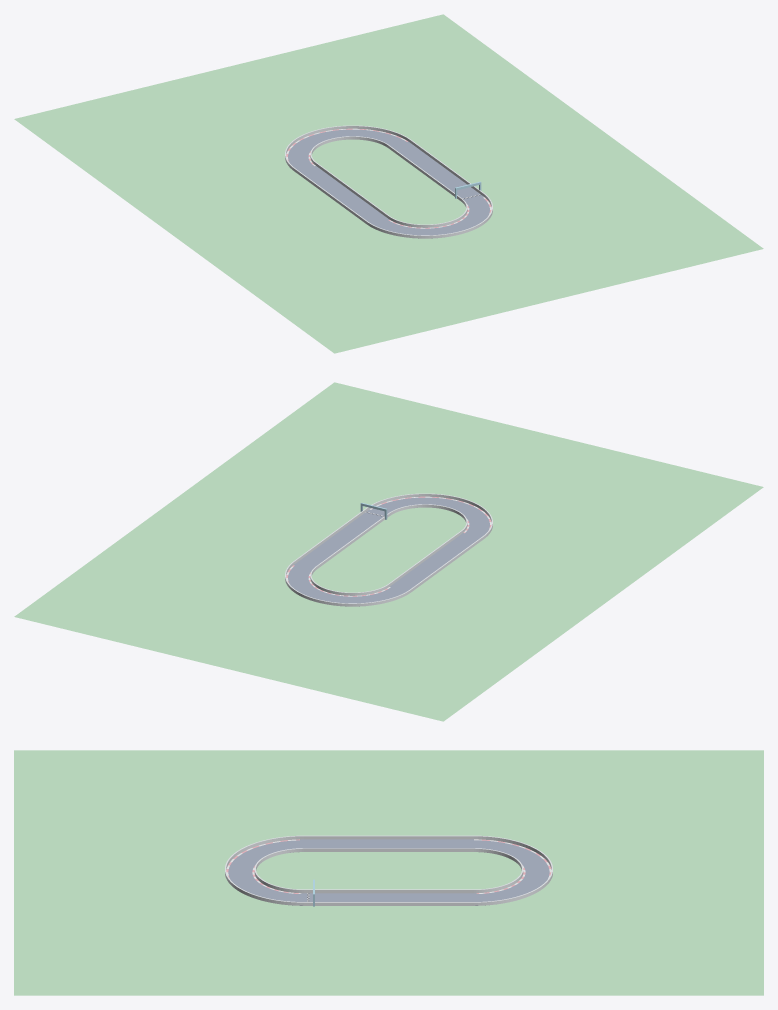
Rendered from track_01_oval.glb.
3 views of the same model, one above another, from view 1: azimuth 30°, elevation 25°; view 2: azimuth 150°, elevation 25°; view 3: azimuth 270°, elevation 25° (orthographic). The views are drawn at different scales.
Parts seen in each view (by area): view 1: Grass, Road, Walls; view 2: Grass, Road, Walls; view 3: Grass, Road, Walls, Kerbs.
Part boxes in pixels (box(x1,y1,x2,y2)): Grass: box(14, 14, 763, 353); Road: box(288, 129, 489, 238); Walls: box(285, 125, 492, 238); Grass: box(14, 382, 763, 721); Road: box(288, 497, 489, 606); Walls: box(285, 493, 492, 606); Grass: box(14, 750, 763, 995); Road: box(228, 839, 549, 905); Walls: box(225, 835, 552, 905); Kerbs: box(226, 839, 551, 893).
Size of the model in its own units: 820 by 20 by 1060.
